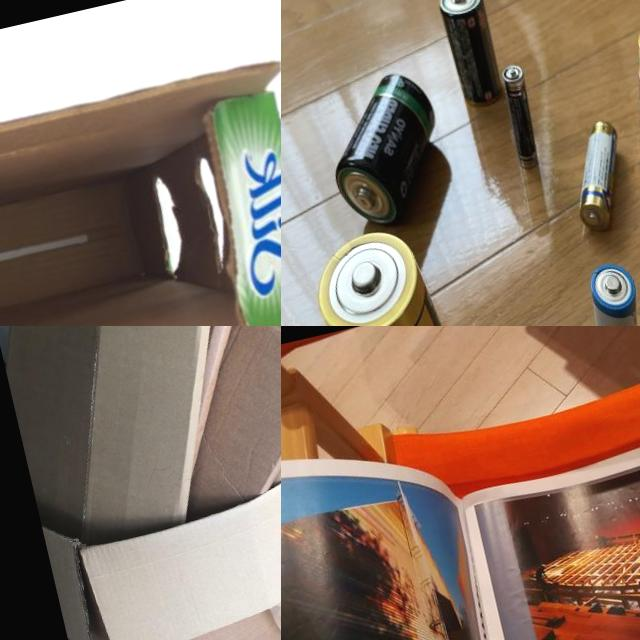bateria: (312, 63, 456, 229), (303, 217, 480, 326), (552, 110, 640, 238), (429, 0, 510, 114), (490, 54, 550, 175), (612, 3, 640, 202), (571, 252, 640, 326)
papel: (281, 330, 640, 640)
papelão: (0, 51, 281, 326), (0, 326, 281, 559), (41, 461, 281, 640)
